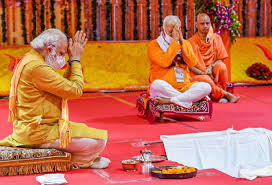Caution: (146, 10, 239, 120)
Good: (11, 13, 195, 154)
